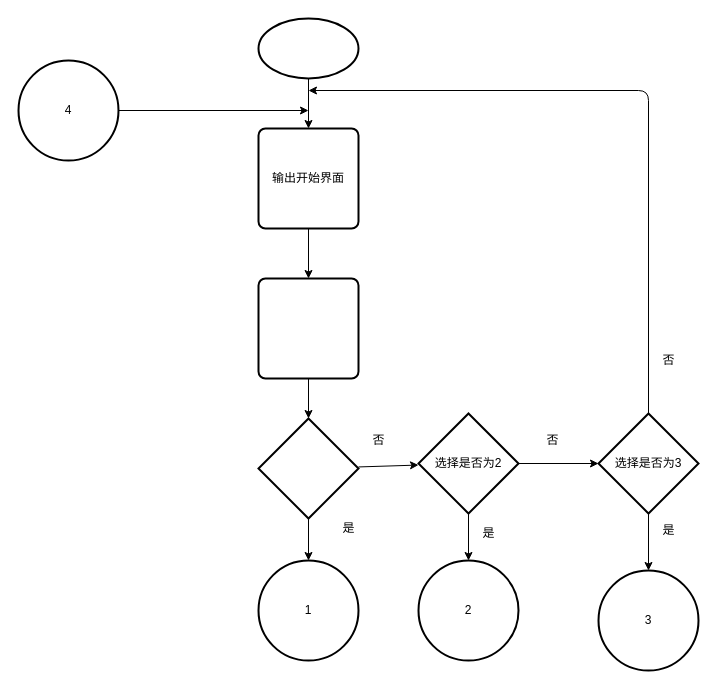
Image size: 716x688. Some labels were removed from this diagram. The shapes that lost their labels are listed below. From the top down, each one's box as (x1, y1, x2, y2) in pixels, then its label:
(257, 17, 359, 79): 开始
(257, 277, 359, 379): 输入选择
(257, 417, 359, 519): 选择是否为1
